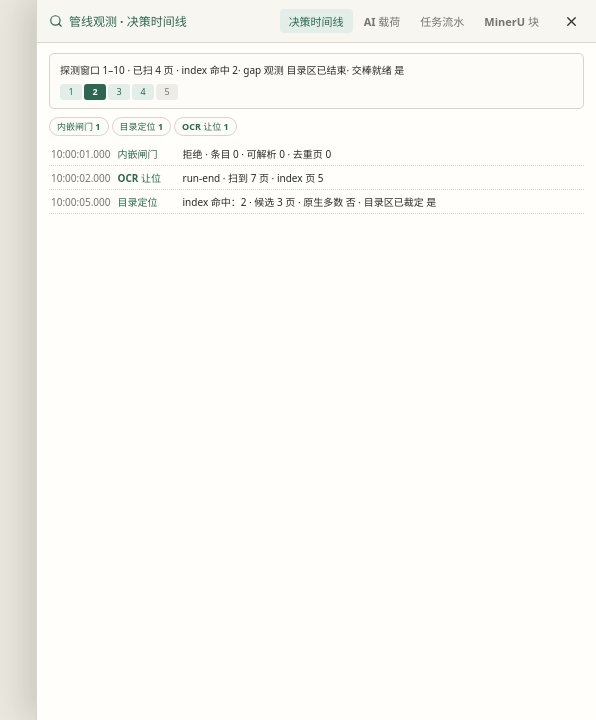
PipelineObserverDrawer › filters timeline rows by kind chips
Expected: the number of elements with class "observer-event" is 3, [49,142,584,166]; [49,166,584,190]; [49,190,584,214]
Click the button with class "observer-filter" showing "OCR 让位 1": (205, 126) [174,117,237,136]
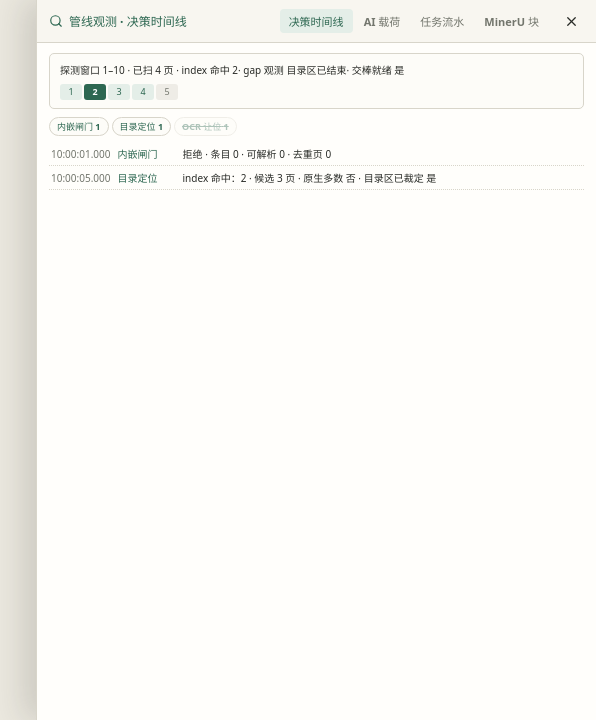
Click the button with class "observer-filter" showing "OCR 让位 1": (205, 126) [174,117,237,136]
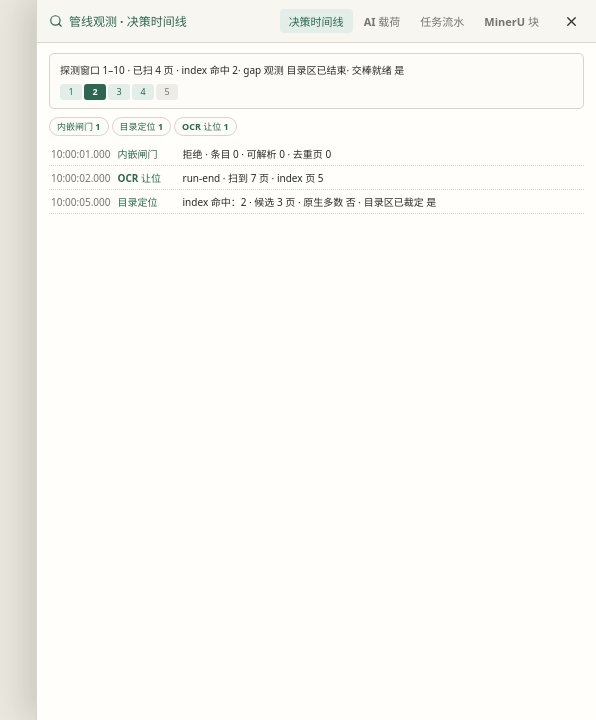
Now the number of elements with class "observer-event" is 3, box [49,142,584,166]; [49,166,584,190]; [49,190,584,214]
